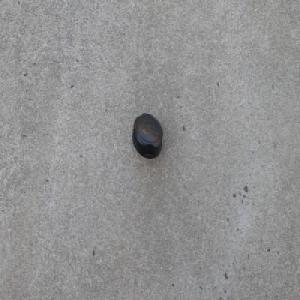FuelCap: (131, 112, 163, 159)
